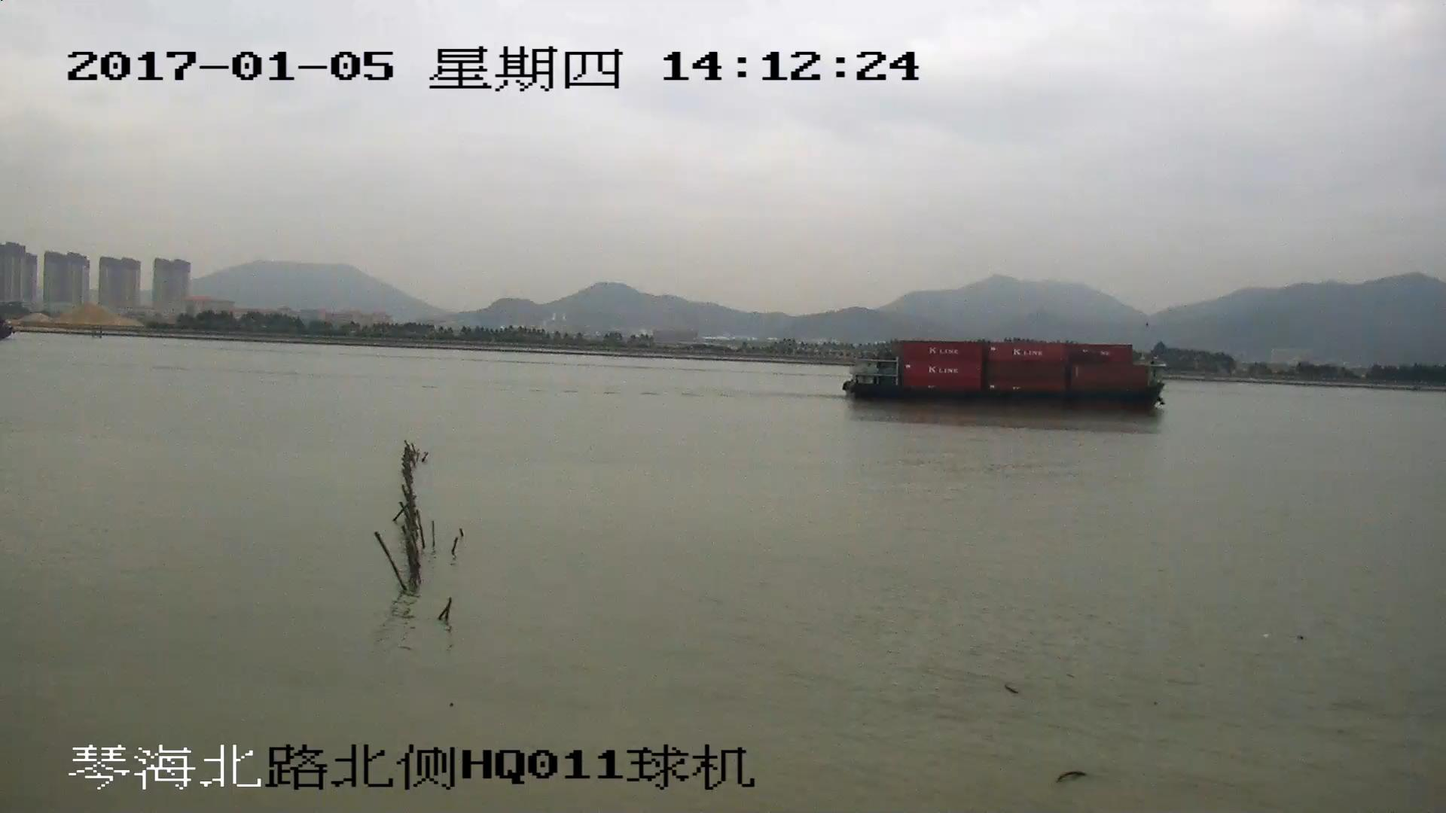container ship: (840, 342, 1165, 415)
